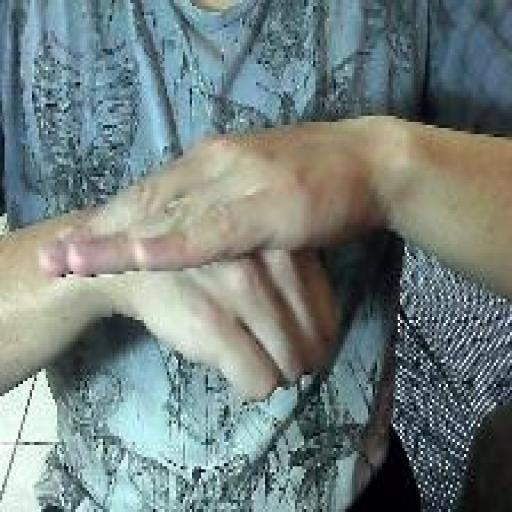Inu -dog-: (34, 125, 343, 405)
